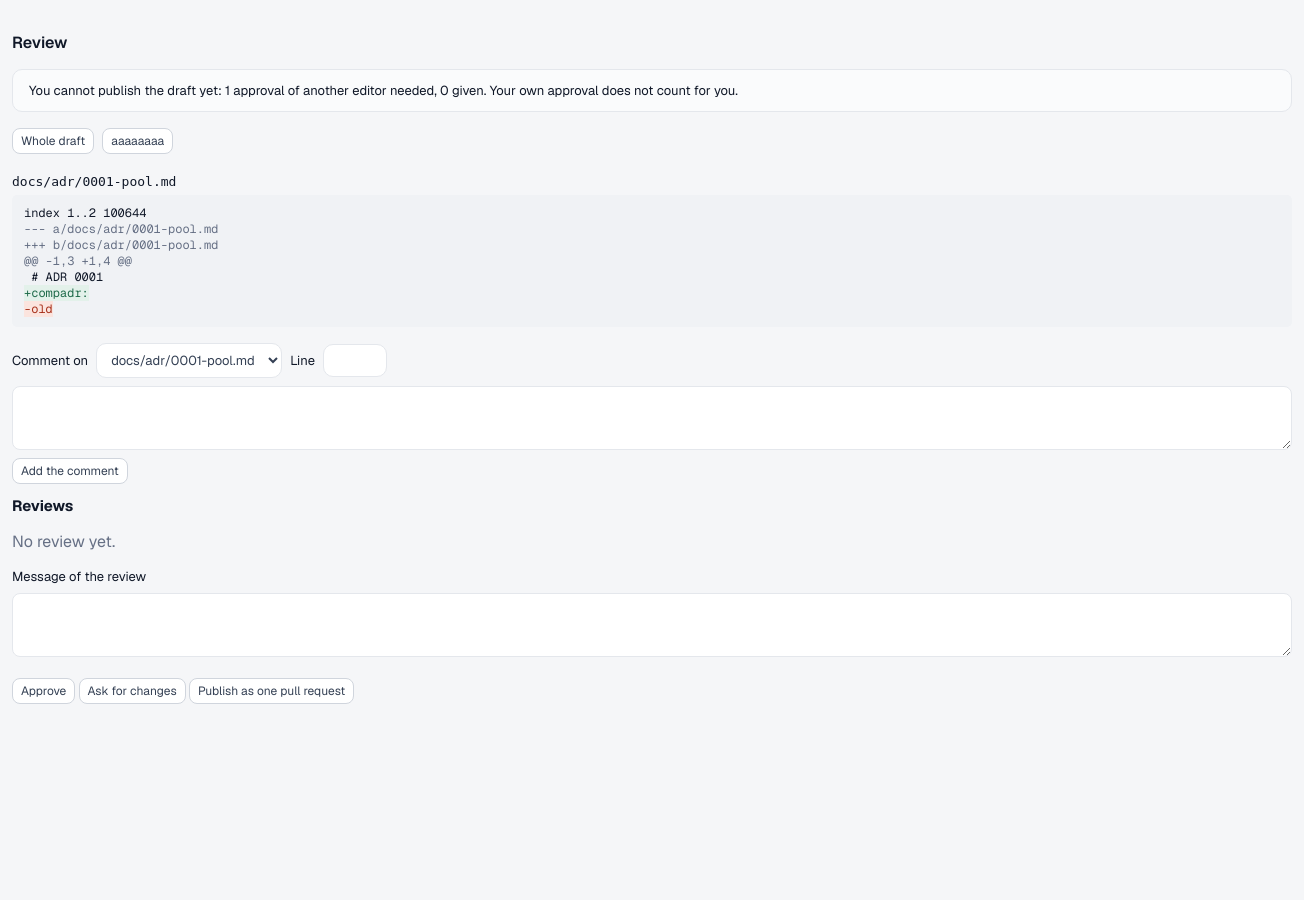
Test case: DraftReview › asks for changes only with a message, and shows a refusal
Expected: the button "Ask for changes" is disabled, x1=79 y1=678 x2=186 y2=704
Type "Wait." into the text box labelled "Message of the review" at (652, 625), box x1=12 y1=593 x2=1292 y2=657
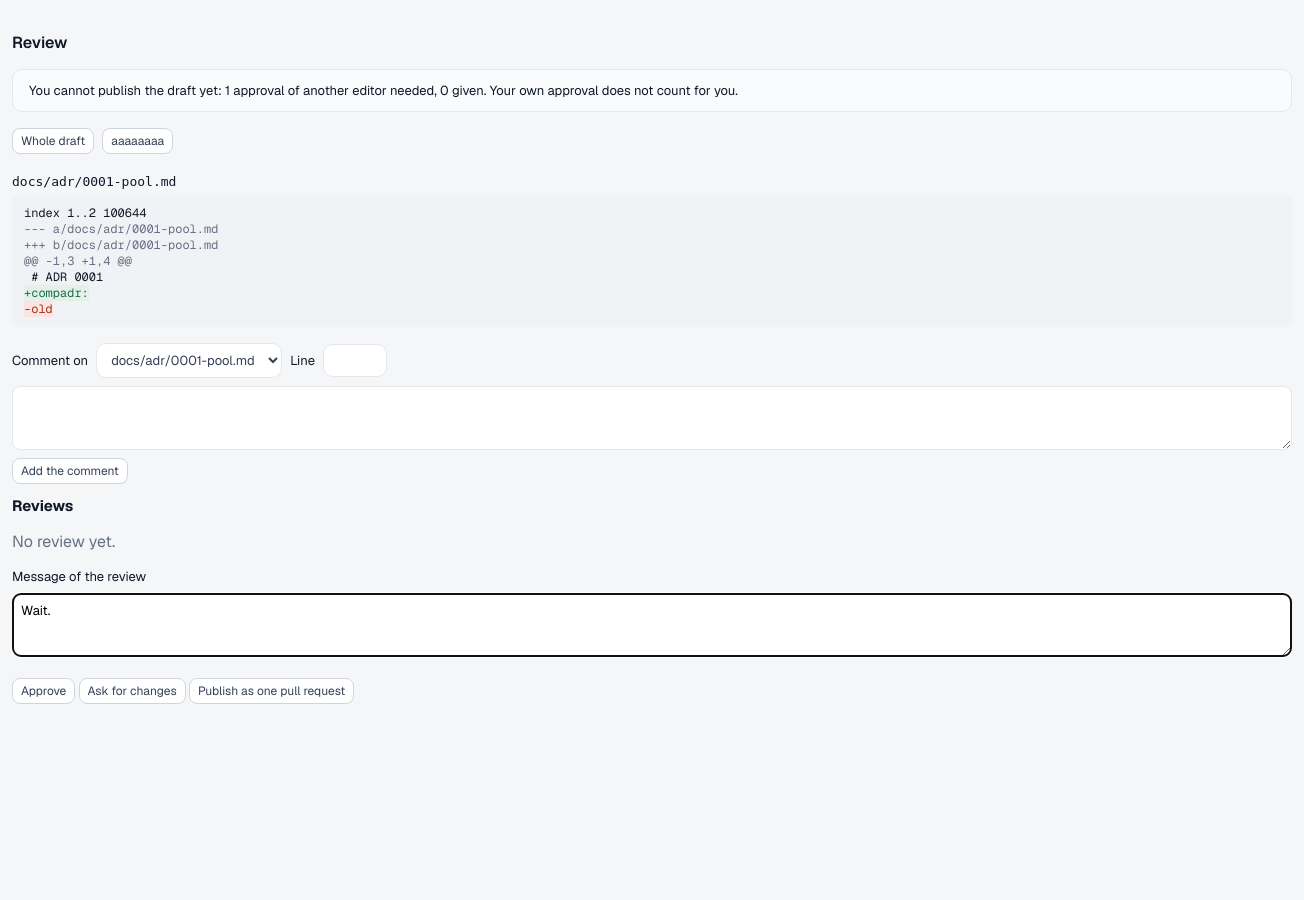
Click the button "Ask for changes" at (132, 691), box x1=79 y1=678 x2=186 y2=704
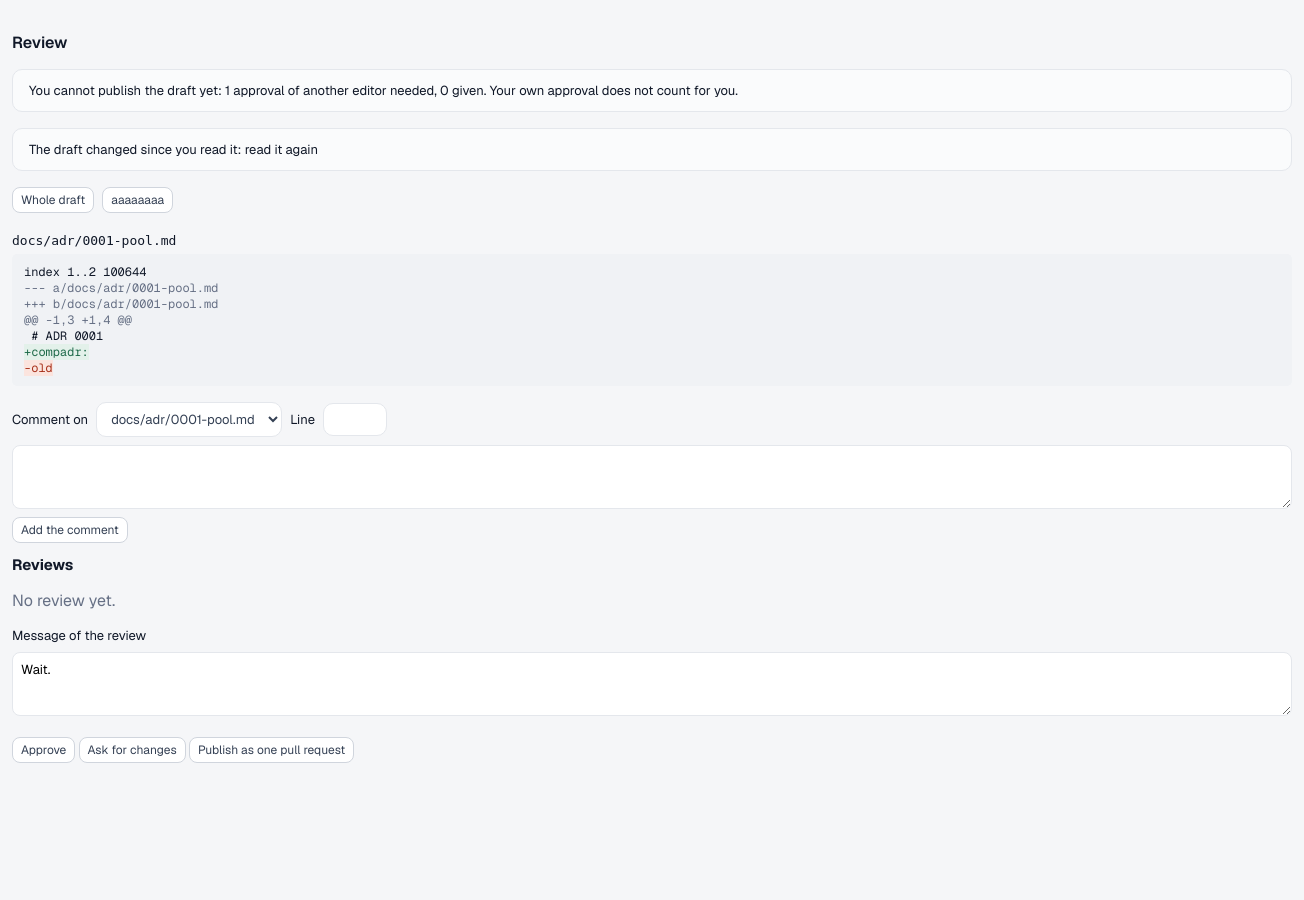
Now the text "The draft changed since you read it: read it again" is shown, box x1=12 y1=128 x2=1292 y2=171
